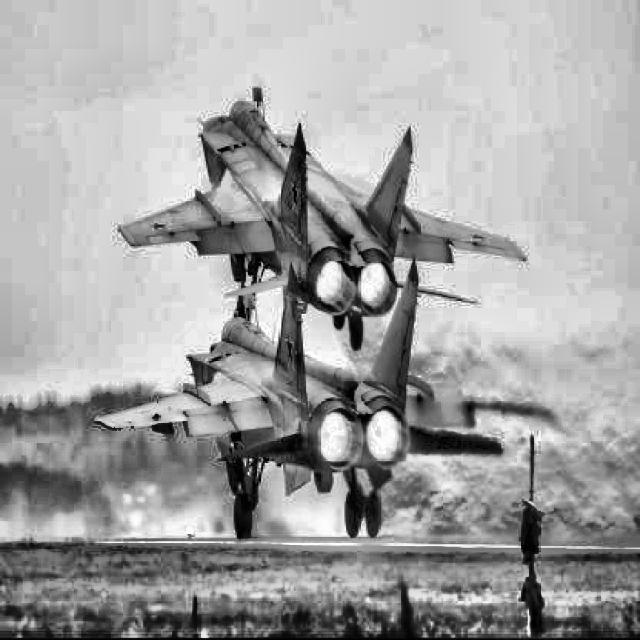Mig31: (95, 255, 554, 538), (116, 85, 527, 350)
